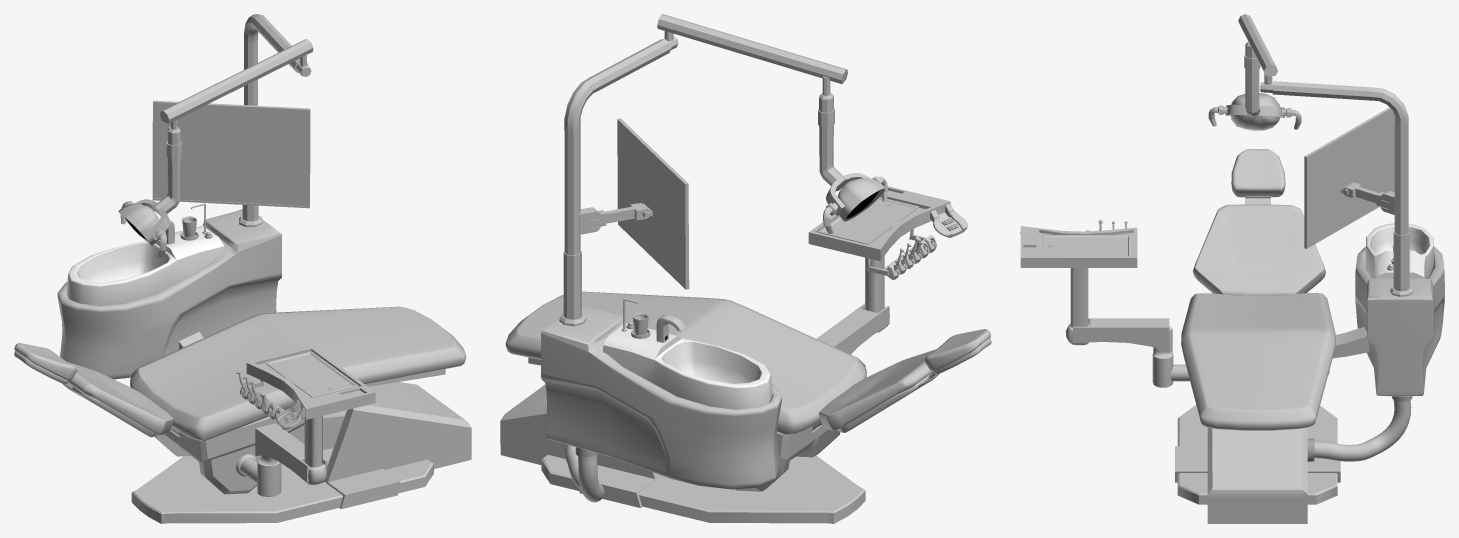
Rendered from dental_chair2.fbx.
The picture shows the model from 3 angles, left to right: view 1: azimuth 30°, elevation 25°; view 2: azimuth 150°, elevation 25°; view 3: azimuth 270°, elevation 25°; orthographic projection. The views are drawn at different scales.
Visible parts, largest first — view 1: pCube15, pasted__pCube47, pCube52, pCube18, pCube19, pasted__polySurface3, polySurface1, pCube12, pCylinder26, pasted__pCylinder21, pCube47, pCube55 (+10 smaller); view 2: pasted__pCube47, pCube15, pCube19, pasted__polySurface3, pCube52, pasted__pCylinder21, pCube18, pCube12, pCylinder26, polySurface1, polySurface6, pCube55 (+11 smaller); view 3: pCube15, pCube18, pCube12, pasted__pCube47, pCube52, pasted__pCylinder21, pCube19, polySurface1, pasted__polySurface3, monnted_holder, pCube13, pCylinder48 (+7 smaller).
Boxes of the visible parts, x1=… form: pCube15: x1=130, y1=306, x2=466, y2=441; pasted__pCube47: x1=57, y1=209, x2=281, y2=379; pCube52: x1=152, y1=100, x2=310, y2=208; pCube18: x1=323, y1=382, x2=471, y2=509; pCube19: x1=131, y1=456, x2=433, y2=523; pasted__polySurface3: x1=67, y1=226, x2=224, y2=306; polySurface1: x1=246, y1=346, x2=375, y2=419; pCube12: x1=68, y1=362, x2=173, y2=435; pCylinder26: x1=160, y1=39, x2=313, y2=123; pasted__pCylinder21: x1=239, y1=14, x2=311, y2=227; pCube47: x1=164, y1=369, x2=445, y2=462; pCube55: x1=265, y1=351, x2=358, y2=397; pasted__pCube47: x1=541, y1=305, x2=781, y2=489; pCube15: x1=505, y1=291, x2=866, y2=435; pCube19: x1=541, y1=455, x2=865, y2=523; pasted__polySurface3: x1=603, y1=323, x2=772, y2=409; pCube52: x1=617, y1=118, x2=689, y2=289; pasted__pCylinder21: x1=559, y1=31, x2=678, y2=326; pCube18: x1=500, y1=384, x2=661, y2=507; pCube12: x1=818, y1=349, x2=935, y2=430; pCylinder26: x1=657, y1=14, x2=847, y2=83; polySurface1: x1=808, y1=186, x2=950, y2=261; polySurface6: x1=818, y1=76, x2=888, y2=233; pCube55: x1=818, y1=197, x2=918, y2=244; pCube15: x1=1181, y1=293, x2=1335, y2=430; pCube18: x1=1175, y1=427, x2=1340, y2=523; pCube12: x1=1192, y1=204, x2=1325, y2=295; pasted__pCube47: x1=1355, y1=246, x2=1444, y2=396; pCube52: x1=1304, y1=107, x2=1394, y2=248; pasted__pCylinder21: x1=1260, y1=73, x2=1413, y2=296; pCube19: x1=1177, y1=405, x2=1337, y2=504; polySurface1: x1=1020, y1=226, x2=1137, y2=267; pasted__polySurface3: x1=1365, y1=223, x2=1433, y2=278; monnted_holder: x1=1073, y1=318, x2=1169, y2=352; pCube13: x1=1231, y1=149, x2=1285, y2=195; pCylinder48: x1=1314, y1=400, x2=1411, y2=461.
Bounding box in the file's own units: 206 × 198 × 190.
